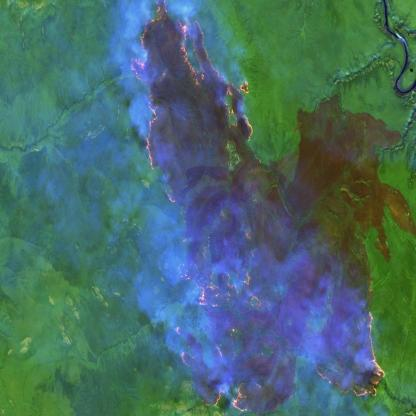fire: (168, 227, 388, 416), (127, 0, 256, 208)
